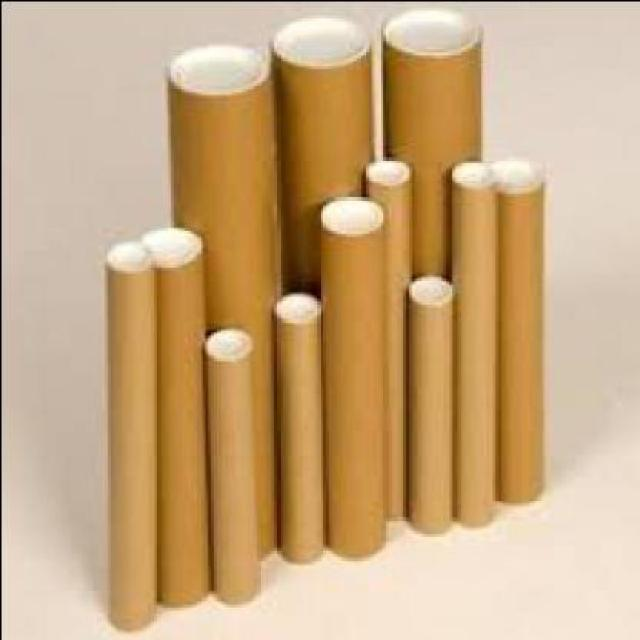CARDBOARD: (161, 37, 273, 555), (267, 12, 373, 294), (378, 3, 480, 274), (312, 192, 385, 556), (141, 224, 204, 605), (103, 236, 155, 626), (488, 150, 543, 501), (198, 323, 258, 603), (448, 156, 490, 524), (362, 152, 404, 518), (269, 286, 322, 560), (404, 272, 448, 536)
